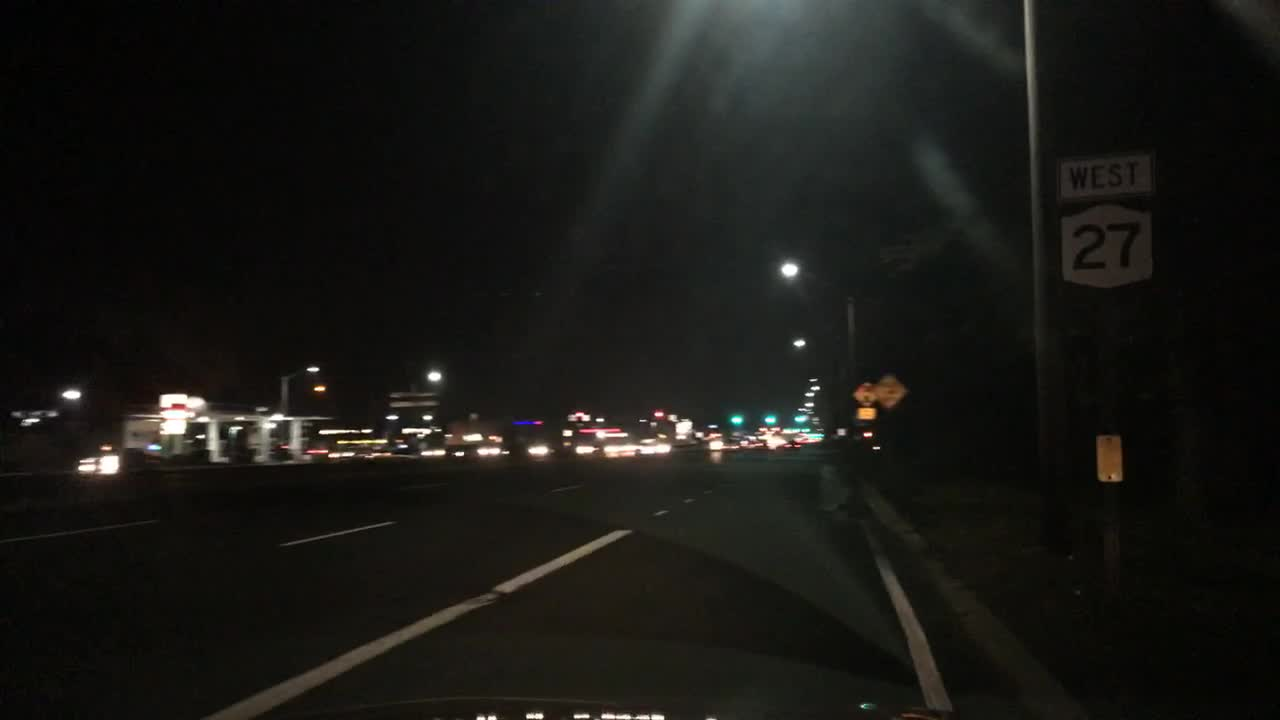traffic sign: (1055, 205, 1156, 291), (1054, 154, 1151, 196), (879, 372, 903, 407), (856, 379, 877, 404), (857, 406, 876, 416)
